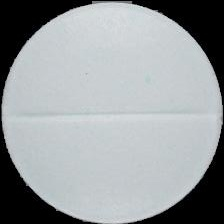50436-4777: (0, 0, 224, 224)
